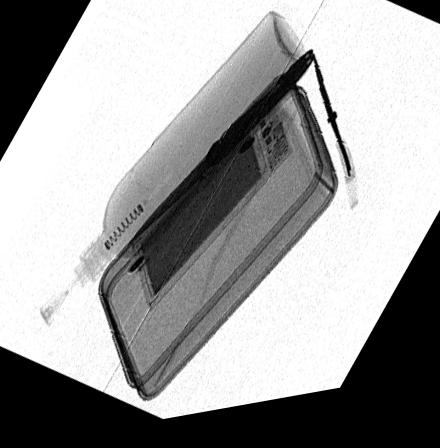Knife: (128, 56, 312, 249)
Powerbank: (129, 101, 292, 316)
Scissors: (301, 58, 366, 225)
